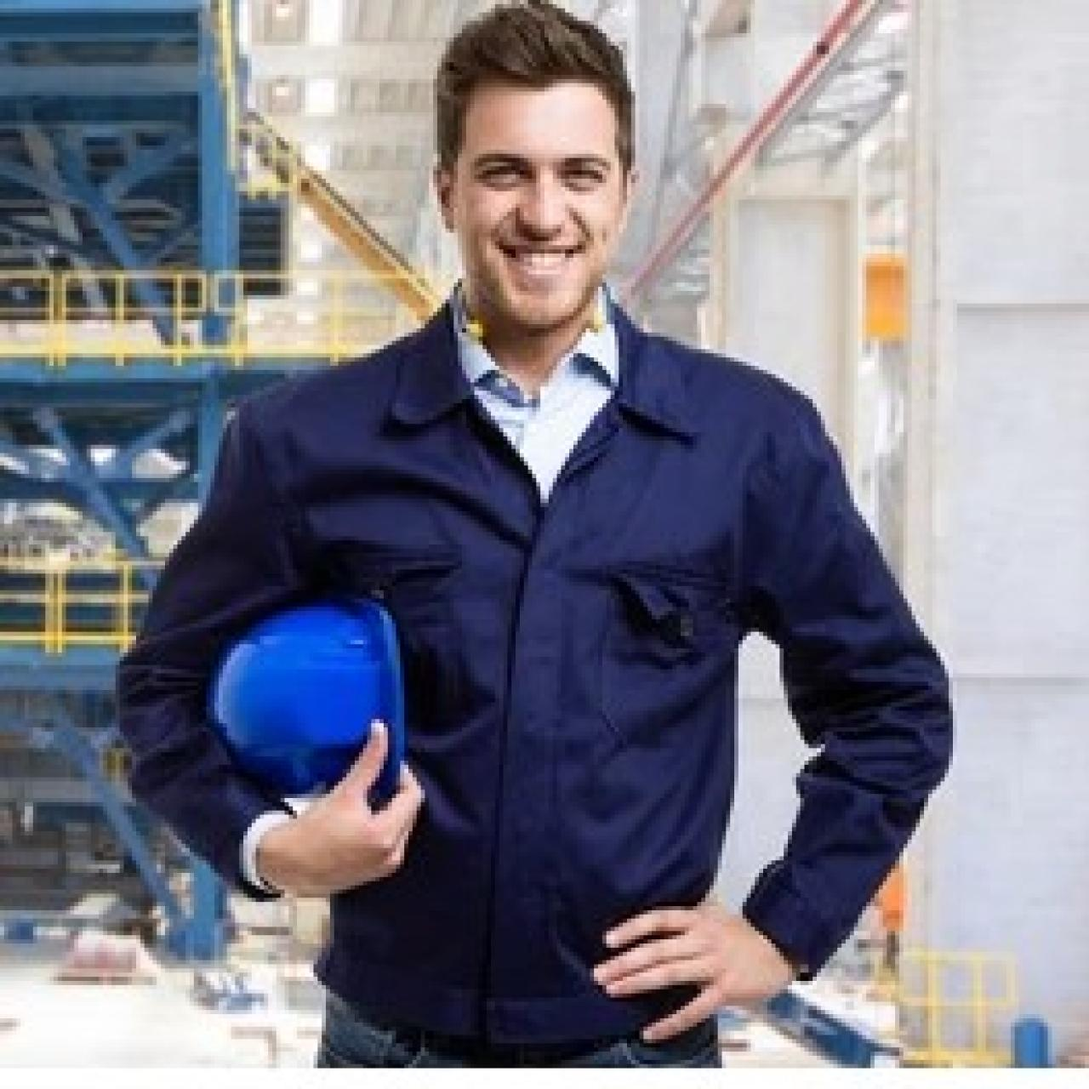NO_Safety_Vest: (286, 324, 787, 1038)
Person: (138, 18, 965, 1070)
